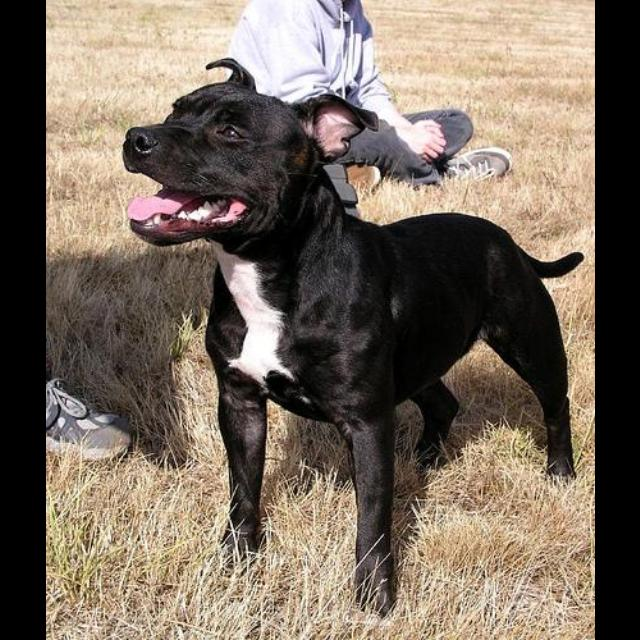staffford: (121, 58, 584, 619)
